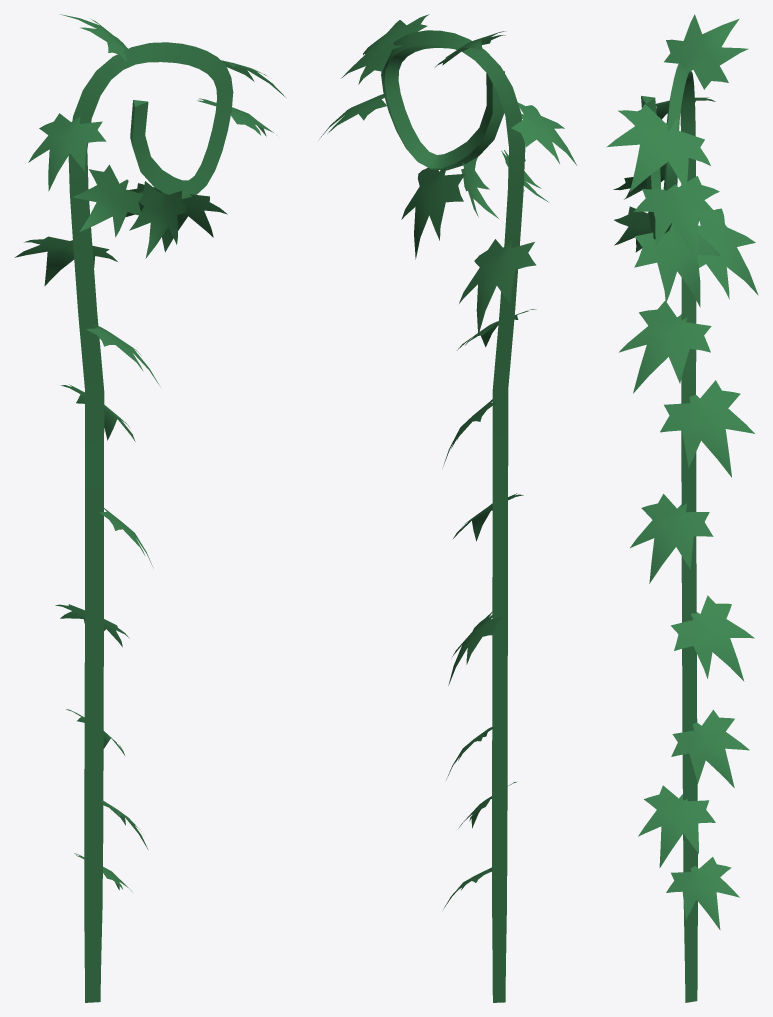
File: vine_N_alangium.fbx
The picture shows the model from 3 angles, left to right: view 1: azimuth 30°, elevation 25°; view 2: azimuth 150°, elevation 25°; view 3: azimuth 270°, elevation 25°; orthographic projection.
Parts seen in each view (by area): view 1: vine_N_alangium_root, vine_N_alangium_A_leaf_B71, vine_N_alangium_A_leaf_B83, vine_N_alangium_A_leaf_B72, vine_N_alangium_A_leaf_B73, vine_N_alangium_A_leaf_B74, vine_N_alangium_A_leaf_B, vine_N_alangium_A_leaf_B80; view 2: vine_N_alangium_root, vine_N_alangium_A_leaf_B73, vine_N_alangium_A_leaf_B74, vine_N_alangium_A_leaf_B75, vine_N_alangium_A_leaf_B71, vine_N_alangium_A_leaf_B79, vine_N_alangium_A_leaf_B72, vine_N_alangium_A_leaf_B76; view 3: vine_N_alangium_root, vine_N_alangium_A_leaf_B75, vine_N_alangium_A_leaf_B81, vine_N_alangium_A_leaf_B80, vine_N_alangium_A_leaf_B76, vine_N_alangium_A_leaf_B82, vine_N_alangium_A_leaf_B79, vine_N_alangium_A_leaf_B74, vine_N_alangium_A_leaf_B, vine_N_alangium_A_leaf_B77, vine_N_alangium_A_leaf_B84, vine_N_alangium_A_leaf_B73 (+3 smaller).
Boxes of the visible parts, left/top/right/bottom form: vine_N_alangium_root: left=68, top=42, right=233, bottom=1002; vine_N_alangium_A_leaf_B71: left=28, top=113, right=106, bottom=191; vine_N_alangium_A_leaf_B83: left=72, top=164, right=143, bottom=237; vine_N_alangium_A_leaf_B72: left=129, top=181, right=188, bottom=258; vine_N_alangium_A_leaf_B73: left=14, top=236, right=117, bottom=285; vine_N_alangium_A_leaf_B74: left=125, top=183, right=227, bottom=252; vine_N_alangium_A_leaf_B: left=60, top=14, right=127, bottom=62; vine_N_alangium_A_leaf_B80: left=86, top=324, right=160, bottom=386; vine_N_alangium_root: left=381, top=30, right=525, bottom=1002; vine_N_alangium_A_leaf_B73: left=459, top=239, right=536, bottom=334; vine_N_alangium_A_leaf_B74: left=401, top=167, right=464, bottom=259; vine_N_alangium_A_leaf_B75: left=341, top=14, right=429, bottom=84; vine_N_alangium_A_leaf_B71: left=511, top=102, right=576, bottom=165; vine_N_alangium_A_leaf_B79: left=448, top=612, right=504, bottom=685; vine_N_alangium_A_leaf_B72: left=461, top=157, right=498, bottom=218; vine_N_alangium_A_leaf_B76: left=319, top=94, right=386, bottom=139; vine_N_alangium_root: left=641, top=60, right=697, bottom=1002; vine_N_alangium_A_leaf_B75: left=606, top=104, right=710, bottom=191; vine_N_alangium_A_leaf_B81: left=660, top=380, right=754, bottom=477; vine_N_alangium_A_leaf_B80: left=619, top=300, right=711, bottom=393; vine_N_alangium_A_leaf_B76: left=634, top=176, right=726, bottom=264; vine_N_alangium_A_leaf_B82: left=630, top=494, right=713, bottom=583; vine_N_alangium_A_leaf_B79: left=670, top=595, right=754, bottom=681; vine_N_alangium_A_leaf_B74: left=634, top=216, right=720, bottom=307; vine_N_alangium_A_leaf_B: left=664, top=14, right=748, bottom=89; vine_N_alangium_A_leaf_B77: left=638, top=785, right=715, bottom=867; vine_N_alangium_A_leaf_B84: left=671, top=710, right=749, bottom=787; vine_N_alangium_A_leaf_B73: left=698, top=208, right=758, bottom=299.
Size of the model in its own units: 69.96 by 270 by 38.02.
